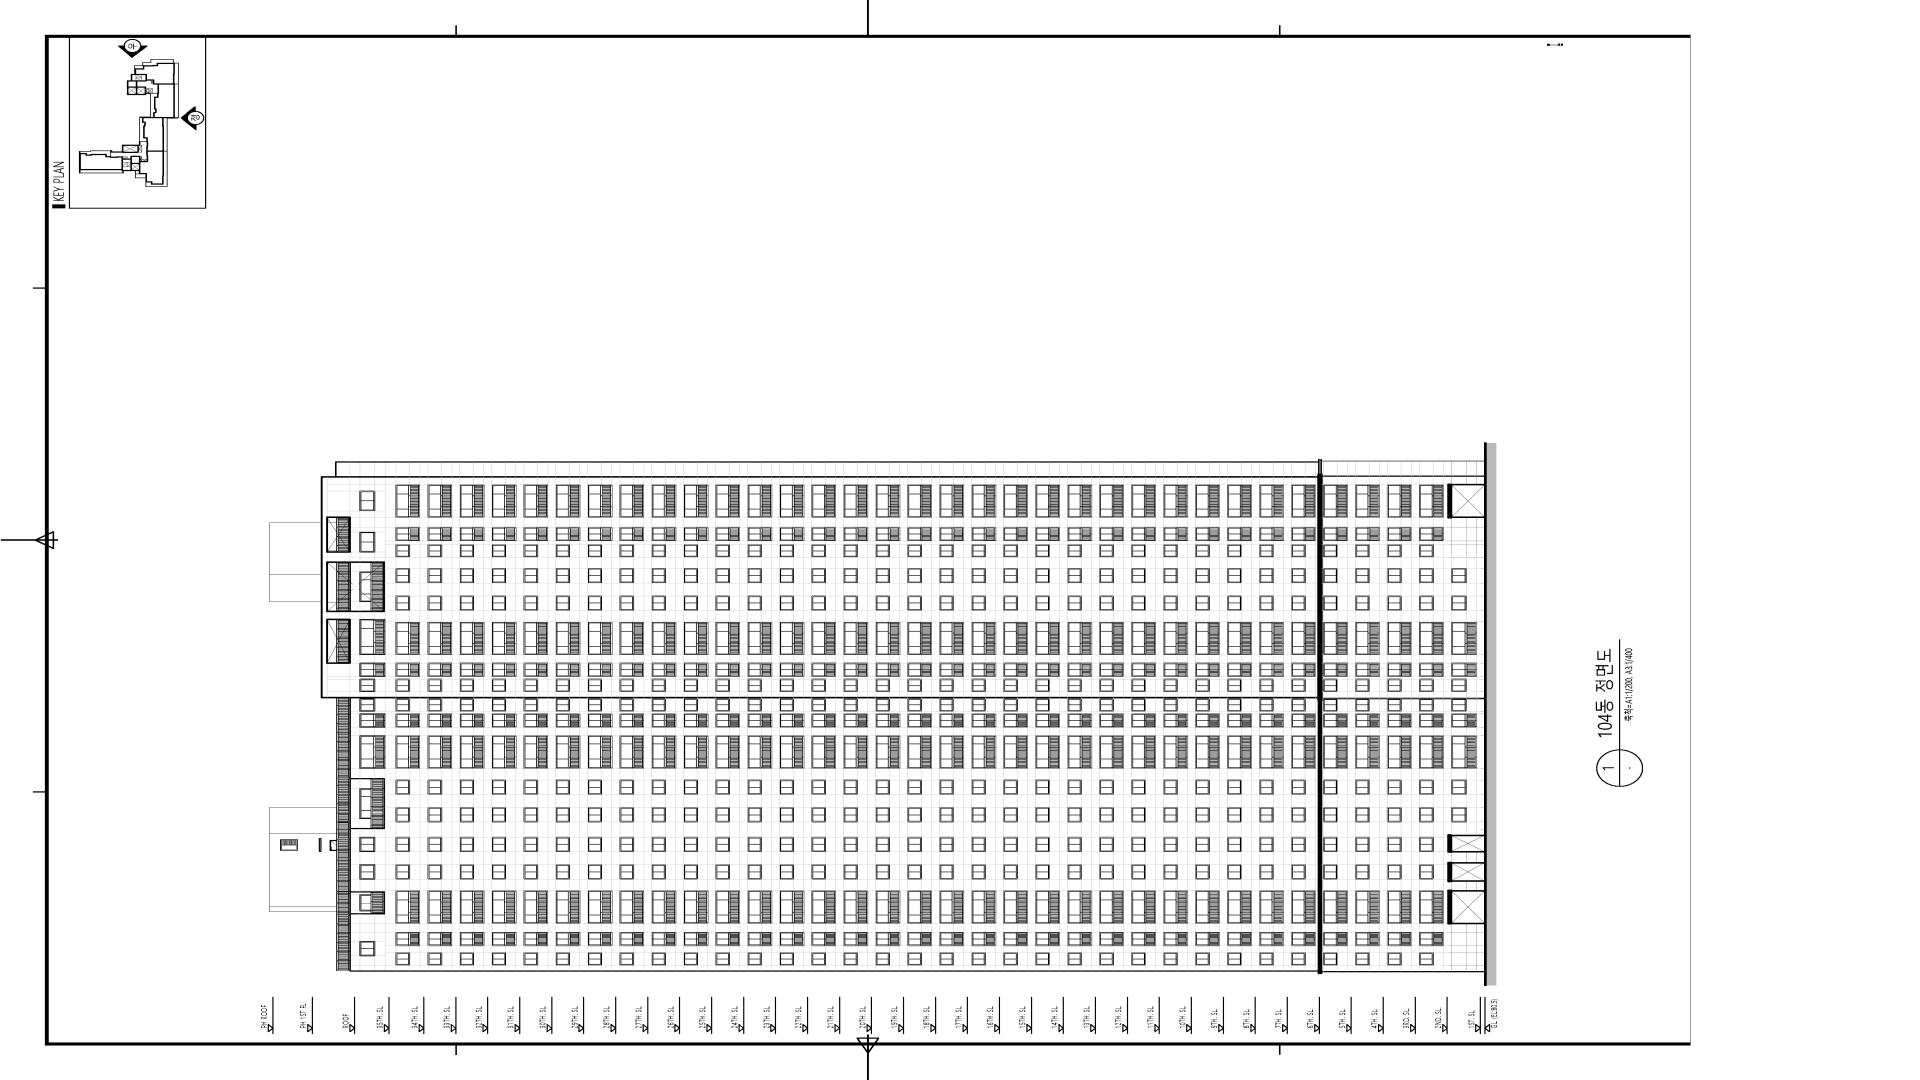door: (1451, 890, 1485, 924), (1451, 484, 1485, 518), (1451, 862, 1485, 882), (1451, 835, 1485, 852)
wall: (320, 460, 1487, 972)
window: (326, 618, 351, 665), (359, 618, 385, 655), (326, 517, 351, 553), (359, 736, 385, 769), (651, 735, 676, 769), (779, 735, 804, 769), (876, 735, 901, 769), (972, 735, 997, 769), (1035, 735, 1060, 769), (396, 890, 421, 924), (427, 890, 452, 924), (492, 890, 517, 924), (620, 890, 645, 924), (715, 890, 740, 924), (748, 890, 773, 924), (811, 890, 836, 924), (876, 890, 901, 924), (1163, 890, 1188, 924), (1259, 890, 1284, 924), (1291, 890, 1316, 924), (1323, 890, 1348, 924), (427, 485, 452, 518), (492, 485, 517, 518), (524, 485, 549, 518), (588, 485, 613, 518), (651, 485, 676, 518), (683, 485, 708, 518), (715, 485, 740, 518), (748, 485, 773, 518), (779, 485, 804, 518), (811, 484, 836, 517), (876, 485, 901, 518), (907, 485, 932, 518), (972, 485, 997, 518), (1035, 485, 1060, 518), (1195, 485, 1220, 518), (1259, 485, 1284, 518), (396, 622, 421, 655), (427, 622, 452, 655), (524, 621, 549, 654), (651, 622, 676, 655), (748, 622, 773, 655), (811, 622, 836, 655), (876, 622, 901, 655), (1035, 622, 1060, 655), (1163, 622, 1188, 655), (1195, 622, 1220, 655), (1291, 622, 1316, 655), (1323, 622, 1348, 655), (1356, 622, 1381, 655), (1387, 622, 1412, 655), (1419, 622, 1444, 655), (1452, 622, 1477, 655), (396, 736, 421, 769), (427, 736, 452, 769), (460, 736, 485, 769), (492, 736, 517, 769), (524, 736, 549, 769), (555, 736, 580, 769), (683, 736, 708, 769), (748, 736, 773, 769), (811, 736, 836, 769), (907, 736, 932, 769), (939, 736, 964, 769), (1098, 736, 1124, 769), (1163, 736, 1188, 769), (1195, 736, 1220, 769), (1259, 736, 1284, 769), (1291, 736, 1316, 769), (1323, 736, 1348, 769), (1356, 736, 1381, 769), (1419, 736, 1444, 769), (1452, 736, 1477, 769), (524, 890, 549, 923), (555, 890, 580, 923), (651, 890, 676, 923), (779, 890, 804, 923), (844, 890, 869, 923), (907, 890, 932, 923), (939, 890, 964, 923), (1131, 890, 1156, 923), (1195, 890, 1220, 923), (1356, 890, 1381, 923), (1419, 890, 1444, 923), (1068, 735, 1092, 769), (1387, 735, 1411, 769), (460, 890, 484, 924), (588, 890, 612, 924), (684, 890, 708, 924), (972, 890, 996, 924), (1004, 890, 1027, 924), (1068, 890, 1092, 924), (1100, 890, 1124, 924), (1228, 890, 1251, 924), (1163, 485, 1188, 517), (1291, 485, 1316, 517), (1323, 485, 1348, 517), (1356, 485, 1381, 517), (1419, 485, 1444, 517), (492, 622, 517, 654), (779, 622, 804, 654), (1259, 622, 1284, 654), (396, 485, 419, 518), (460, 485, 484, 518), (556, 485, 580, 518), (620, 485, 644, 518), (844, 485, 868, 518), (940, 485, 964, 518), (1004, 485, 1027, 518), (1068, 485, 1092, 518), (1100, 485, 1124, 518), (1228, 484, 1251, 517), (460, 622, 484, 655), (556, 622, 580, 655), (588, 622, 612, 655), (620, 622, 644, 655), (684, 622, 708, 655), (716, 622, 740, 655), (844, 622, 868, 655), (907, 622, 931, 655), (972, 622, 996, 655), (1004, 622, 1027, 655), (1068, 622, 1092, 655), (1100, 622, 1124, 655), (1131, 621, 1155, 654), (1228, 622, 1251, 655), (588, 736, 612, 769), (620, 736, 644, 769), (716, 736, 740, 769), (844, 736, 868, 769), (1004, 736, 1027, 769), (1131, 736, 1155, 769), (1228, 736, 1251, 769), (1036, 890, 1060, 923), (1387, 890, 1411, 923), (1131, 485, 1155, 517), (1387, 485, 1411, 517), (940, 622, 964, 654), (359, 571, 371, 603), (1098, 526, 1124, 541), (1323, 526, 1348, 541), (492, 662, 517, 676), (524, 662, 549, 676), (555, 662, 580, 676), (588, 662, 613, 676), (715, 662, 740, 676), (779, 662, 804, 676), (811, 662, 836, 676), (876, 662, 901, 676), (907, 662, 932, 676), (939, 662, 964, 676), (1035, 662, 1060, 676), (1098, 662, 1124, 676), (1195, 662, 1220, 676), (1259, 662, 1284, 676), (1356, 662, 1381, 676), (1452, 662, 1477, 676), (360, 713, 385, 728), (427, 713, 452, 728), (492, 713, 517, 728), (555, 713, 580, 728), (651, 713, 676, 728), (715, 713, 740, 728), (748, 713, 773, 728), (779, 713, 804, 728), (811, 713, 836, 728), (876, 713, 901, 728), (907, 713, 932, 728), (1035, 713, 1060, 728), (1098, 713, 1124, 728), (1163, 713, 1188, 728), (1195, 713, 1220, 728), (1226, 713, 1251, 728), (1259, 713, 1284, 728), (1291, 713, 1316, 728), (1323, 713, 1348, 728), (1419, 713, 1444, 728), (1452, 713, 1477, 728), (683, 932, 708, 947), (1035, 932, 1060, 947), (359, 789, 371, 819), (1228, 526, 1251, 541), (396, 662, 419, 676), (620, 662, 644, 676), (748, 662, 771, 676), (844, 662, 868, 676), (972, 662, 996, 676), (1004, 662, 1027, 676), (1068, 662, 1092, 676), (1131, 662, 1155, 676), (1228, 662, 1251, 676), (1387, 662, 1411, 676), (396, 713, 419, 728), (460, 713, 484, 728), (524, 713, 547, 728), (588, 713, 612, 728), (620, 713, 644, 728), (684, 713, 708, 728), (844, 713, 868, 728), (972, 713, 996, 728), (1004, 713, 1027, 728), (1068, 713, 1092, 728), (1131, 713, 1155, 728), (1356, 713, 1379, 728), (1387, 713, 1411, 728), (460, 932, 484, 947), (1068, 932, 1092, 947), (360, 531, 376, 553), (427, 527, 452, 541), (492, 527, 517, 541), (524, 527, 549, 541), (651, 527, 676, 541), (715, 527, 740, 541), (748, 527, 773, 541), (779, 527, 804, 541), (811, 527, 836, 541), (876, 527, 901, 541), (907, 527, 932, 541), (1035, 527, 1060, 541), (1163, 527, 1188, 541), (1195, 527, 1220, 541), (1259, 527, 1284, 541), (1291, 527, 1316, 541), (1356, 527, 1381, 541), (1419, 527, 1444, 541), (360, 663, 385, 676), (427, 663, 452, 676), (651, 663, 676, 676), (1163, 663, 1188, 676), (1323, 663, 1348, 676), (1419, 663, 1444, 676), (939, 713, 964, 727), (427, 932, 452, 945), (524, 932, 549, 945), (555, 932, 580, 945), (651, 932, 676, 945), (715, 932, 740, 945), (779, 932, 804, 945), (811, 932, 836, 945), (876, 932, 901, 945), (907, 932, 932, 945), (1098, 932, 1124, 945), (1163, 932, 1188, 945), (1195, 932, 1220, 945), (1226, 932, 1251, 945), (1259, 932, 1284, 945), (1291, 932, 1316, 945), (1323, 932, 1348, 945), (1356, 932, 1381, 945), (1419, 932, 1444, 945), (360, 491, 376, 510), (396, 527, 419, 541), (460, 527, 484, 541), (556, 527, 580, 541), (588, 527, 612, 541), (620, 527, 644, 541), (684, 527, 708, 541), (844, 527, 868, 541), (940, 527, 964, 541), (972, 527, 996, 541), (1004, 527, 1027, 541), (1068, 527, 1092, 541), (1131, 527, 1155, 541), (1387, 527, 1411, 541), (460, 663, 484, 676), (684, 663, 708, 676), (1291, 663, 1315, 676), (396, 932, 419, 945), (492, 932, 516, 945), (588, 932, 612, 945), (620, 932, 644, 945), (748, 932, 771, 945), (844, 932, 868, 945), (940, 932, 964, 945), (972, 932, 996, 945), (1004, 932, 1027, 945), (1131, 932, 1155, 945), (1387, 932, 1411, 945), (459, 864, 475, 880), (843, 836, 858, 852), (843, 779, 858, 795), (971, 779, 986, 795), (1098, 779, 1114, 795), (715, 779, 731, 795), (971, 864, 986, 880), (359, 942, 376, 956), (427, 779, 442, 795), (939, 837, 955, 852), (1067, 837, 1083, 852), (1098, 837, 1114, 852), (1226, 837, 1242, 852), (360, 864, 375, 880), (396, 864, 410, 880), (427, 864, 442, 880), (492, 864, 506, 880), (555, 864, 570, 880), (588, 864, 603, 880), (620, 864, 634, 880), (651, 864, 666, 880), (715, 865, 731, 880), (1163, 779, 1178, 795), (1226, 779, 1242, 794), (1387, 779, 1402, 795), (459, 807, 475, 822), (618, 807, 634, 822), (715, 807, 731, 822), (843, 807, 858, 822), (971, 807, 986, 822), (459, 568, 475, 583), (683, 568, 699, 583), (715, 568, 731, 583), (843, 568, 858, 583), (1067, 568, 1083, 583), (1098, 568, 1114, 583), (1226, 568, 1242, 583), (811, 779, 825, 795), (907, 779, 922, 795), (939, 779, 955, 794), (1004, 779, 1018, 795), (1035, 779, 1050, 795), (1067, 779, 1083, 794), (459, 779, 475, 794), (555, 779, 570, 795), (587, 779, 603, 794), (651, 779, 666, 795), (459, 596, 475, 611), (683, 596, 699, 611), (715, 596, 731, 611), (843, 596, 858, 611), (1067, 596, 1083, 611), (1098, 596, 1114, 611), (1130, 596, 1146, 611), (1226, 596, 1242, 611), (1354, 596, 1370, 611), (939, 864, 953, 880), (1035, 864, 1050, 880), (1067, 865, 1083, 880), (1100, 864, 1114, 880), (1130, 865, 1146, 880), (1195, 865, 1211, 880), (1226, 865, 1242, 880), (1259, 864, 1274, 880), (1323, 864, 1337, 880), (1356, 864, 1370, 880), (360, 837, 376, 852), (427, 837, 443, 852), (459, 837, 475, 852), (587, 837, 603, 852), (683, 837, 699, 852), (715, 837, 731, 852), (359, 894, 372, 911), (359, 679, 376, 692), (280, 839, 298, 851), (1356, 568, 1370, 583), (396, 779, 410, 794), (972, 837, 986, 852), (1004, 837, 1018, 852), (1035, 837, 1050, 852), (1131, 837, 1146, 852), (1163, 837, 1178, 852), (1195, 837, 1209, 852), (1259, 837, 1274, 852), (1291, 837, 1305, 852), (1323, 837, 1337, 852), (1356, 837, 1370, 852), (1387, 837, 1402, 852), (1419, 837, 1433, 852), (524, 865, 538, 880), (683, 865, 698, 880), (748, 865, 762, 880), (779, 865, 794, 880), (811, 865, 825, 880), (843, 865, 857, 880), (876, 865, 890, 880), (1131, 779, 1146, 794), (1195, 779, 1209, 794), (1259, 779, 1274, 794), (1291, 779, 1305, 794), (1323, 779, 1337, 794), (1356, 779, 1370, 794), (1419, 779, 1433, 794), (1452, 779, 1466, 794), (396, 807, 410, 822), (427, 807, 442, 822), (492, 807, 506, 822), (524, 807, 538, 822), (555, 807, 570, 822), (587, 807, 601, 822), (651, 807, 666, 822), (683, 807, 698, 822), (748, 807, 762, 822), (779, 807, 794, 822), (811, 807, 825, 822), (876, 807, 890, 822), (907, 807, 922, 822), (939, 807, 953, 822), (1004, 807, 1018, 822), (1035, 807, 1050, 822), (1067, 807, 1081, 822), (1098, 807, 1113, 822), (1452, 568, 1466, 583), (1419, 568, 1433, 583), (396, 568, 410, 583), (427, 568, 442, 583), (492, 568, 506, 583), (524, 568, 538, 583), (555, 568, 570, 583), (588, 568, 603, 583), (620, 568, 634, 583), (651, 568, 666, 583), (748, 568, 762, 583), (779, 568, 794, 583), (811, 568, 825, 583), (876, 568, 890, 583), (907, 568, 922, 583), (939, 568, 953, 583), (972, 568, 986, 583), (1004, 568, 1018, 583), (1035, 568, 1050, 583), (1131, 568, 1146, 583), (1163, 568, 1178, 583), (1195, 568, 1209, 583), (1259, 568, 1274, 583), (1291, 568, 1305, 583), (1323, 568, 1337, 583), (1452, 596, 1466, 611), (779, 837, 794, 852), (811, 837, 825, 852), (876, 837, 890, 852), (907, 837, 922, 852), (779, 779, 794, 794), (876, 779, 890, 794), (492, 779, 506, 794), (524, 779, 538, 794), (620, 779, 634, 794), (683, 779, 698, 794), (748, 779, 762, 794), (1387, 568, 1402, 583), (396, 596, 410, 611), (427, 596, 442, 611), (492, 596, 506, 611), (524, 596, 538, 611), (555, 596, 570, 611), (588, 596, 603, 611), (620, 596, 634, 611), (651, 596, 666, 611), (748, 596, 762, 611), (779, 596, 794, 611), (811, 596, 825, 611), (876, 596, 890, 611), (907, 596, 922, 611), (939, 596, 953, 611), (972, 596, 986, 611), (1004, 596, 1018, 611), (1035, 596, 1050, 611), (1163, 596, 1178, 611), (1195, 596, 1209, 611), (1259, 596, 1274, 611), (1291, 596, 1305, 611), (1323, 596, 1337, 611), (1387, 596, 1402, 611), (1419, 596, 1433, 611), (907, 865, 922, 880), (1004, 865, 1018, 880), (1163, 865, 1178, 880), (1291, 865, 1305, 880), (1387, 865, 1402, 880), (1419, 865, 1433, 880), (1131, 807, 1146, 822), (1163, 807, 1178, 822), (1195, 807, 1209, 822), (1228, 807, 1242, 822), (1259, 807, 1274, 822), (1291, 807, 1305, 822), (1323, 807, 1337, 822), (1356, 807, 1370, 822), (1387, 807, 1402, 822), (1419, 807, 1433, 822), (1452, 807, 1466, 822), (396, 837, 410, 852), (492, 837, 506, 852), (524, 837, 538, 852), (555, 837, 570, 852), (620, 837, 634, 852), (651, 837, 666, 852), (748, 837, 762, 852), (459, 545, 475, 558), (1002, 545, 1018, 558), (1098, 545, 1114, 558), (459, 679, 475, 692), (587, 679, 603, 692), (683, 679, 699, 692), (715, 679, 731, 692), (1067, 679, 1083, 692), (1098, 679, 1114, 692), (1226, 679, 1242, 692), (1067, 952, 1083, 965), (1195, 952, 1211, 965), (1226, 952, 1242, 965), (683, 699, 699, 712), (459, 952, 475, 965), (587, 952, 603, 965), (683, 952, 699, 965), (715, 952, 731, 965), (843, 952, 858, 965), (396, 545, 410, 558), (427, 545, 442, 558), (492, 545, 506, 558), (524, 545, 538, 558), (620, 545, 634, 558), (748, 545, 762, 558), (876, 545, 890, 558), (907, 545, 922, 558), (939, 543, 953, 556), (1259, 545, 1274, 558), (1291, 545, 1305, 558), (1323, 545, 1337, 558), (1356, 545, 1370, 558), (1419, 699, 1433, 712), (1452, 699, 1466, 712), (1419, 545, 1433, 558), (396, 679, 410, 692), (427, 679, 442, 692), (492, 679, 506, 692), (524, 679, 538, 692), (555, 679, 570, 692), (620, 679, 634, 692), (651, 679, 666, 692), (748, 679, 762, 692), (779, 679, 794, 692), (811, 679, 825, 692), (844, 679, 858, 692), (876, 679, 890, 692), (907, 679, 922, 692), (939, 679, 953, 692), (972, 679, 986, 692), (1004, 679, 1018, 692), (1131, 679, 1146, 692), (1163, 679, 1178, 692), (1195, 679, 1209, 692), (1259, 679, 1274, 692), (1291, 679, 1305, 692), (1323, 679, 1337, 692), (1356, 679, 1370, 692), (1387, 679, 1402, 692), (1419, 679, 1433, 692), (907, 952, 922, 965), (939, 952, 953, 965), (972, 952, 986, 965), (1004, 952, 1018, 965), (1035, 952, 1050, 965), (1100, 952, 1114, 965), (1131, 952, 1146, 965), (1163, 952, 1178, 965), (1259, 952, 1274, 965), (1291, 952, 1305, 965), (1323, 952, 1337, 965), (1356, 952, 1370, 965), (1387, 952, 1402, 965), (1419, 952, 1433, 965), (1452, 679, 1466, 692), (360, 699, 375, 712), (396, 699, 410, 712), (427, 699, 442, 712), (492, 699, 506, 712), (524, 699, 538, 712), (555, 698, 570, 711), (588, 699, 603, 712), (651, 699, 666, 712), (716, 699, 731, 712), (748, 699, 762, 712), (779, 699, 794, 712), (811, 699, 825, 712), (876, 699, 890, 712), (907, 698, 922, 711), (972, 699, 986, 712), (1004, 699, 1018, 712), (1035, 699, 1050, 712), (1067, 699, 1081, 712), (1098, 699, 1113, 712), (1131, 699, 1146, 712), (1163, 699, 1178, 712), (1195, 699, 1209, 712), (1226, 699, 1241, 712), (1259, 699, 1274, 712), (1291, 699, 1305, 712), (1323, 699, 1337, 712), (1356, 699, 1370, 712), (1387, 699, 1402, 712), (396, 952, 410, 965), (427, 952, 442, 965), (492, 952, 506, 965), (524, 952, 538, 965), (555, 952, 570, 965), (620, 952, 634, 965), (651, 952, 666, 965), (748, 952, 762, 965), (779, 952, 794, 965), (811, 952, 825, 965), (876, 952, 890, 965), (587, 545, 603, 556), (683, 545, 699, 556), (715, 545, 731, 556), (843, 545, 858, 556), (971, 545, 986, 556), (1195, 545, 1211, 556), (1226, 545, 1242, 556), (939, 699, 955, 711), (555, 545, 570, 556), (651, 545, 666, 556), (779, 545, 794, 556), (811, 545, 825, 556), (1035, 545, 1050, 556), (1067, 545, 1081, 556), (1131, 545, 1146, 556), (1163, 545, 1178, 556), (1387, 545, 1402, 556), (1035, 679, 1050, 691), (460, 699, 475, 711), (620, 699, 634, 711), (844, 699, 858, 711)
